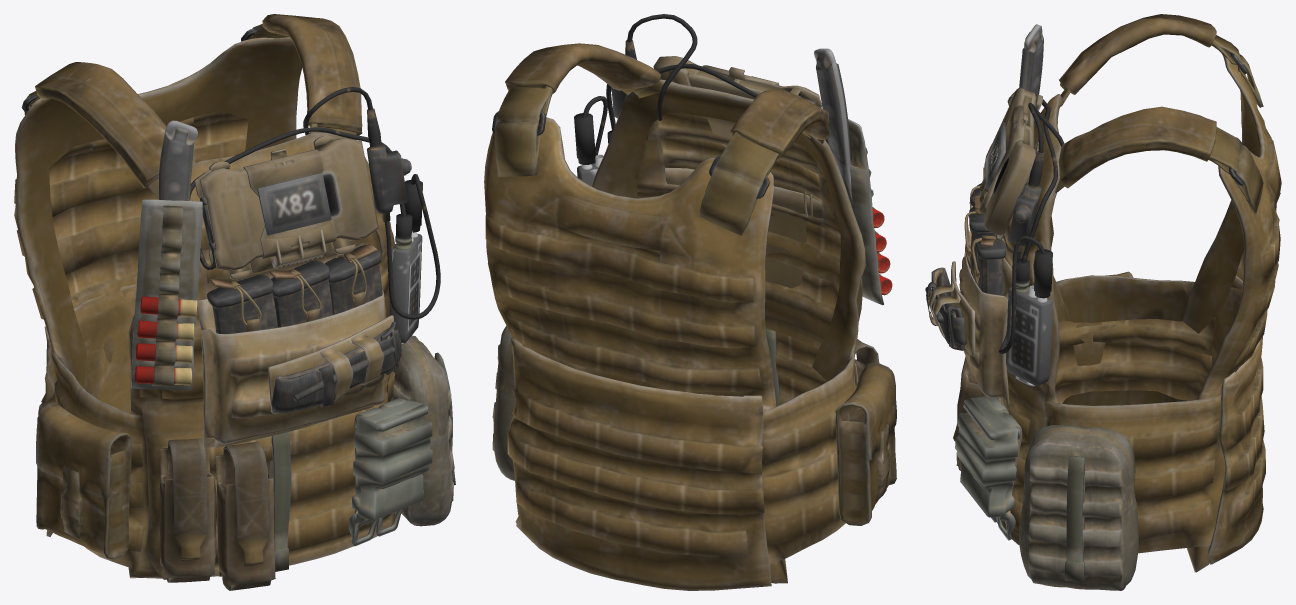
File: colete_aprova_de_balas.glb
3 renders of one model, left to right at view 1: azimuth 30°, elevation 25°; view 2: azimuth 150°, elevation 25°; view 3: azimuth 270°, elevation 25°, orthographic. The views are drawn at different scales.
Parts seen in each view (by area): view 1: 0002_sk_FT_Elite_Assault_M; view 2: 0002_sk_FT_Elite_Assault_M; view 3: 0002_sk_FT_Elite_Assault_M.
Boxes of the visible parts, x1,y1,x2,y2 form: 0002_sk_FT_Elite_Assault_M: (14,14,455,590); 0002_sk_FT_Elite_Assault_M: (484,14,896,590); 0002_sk_FT_Elite_Assault_M: (925,14,1281,590).
Bounding box in the file's own units: 0.5028 × 0.5855 × 0.4233.
1 material, 1 textured.
